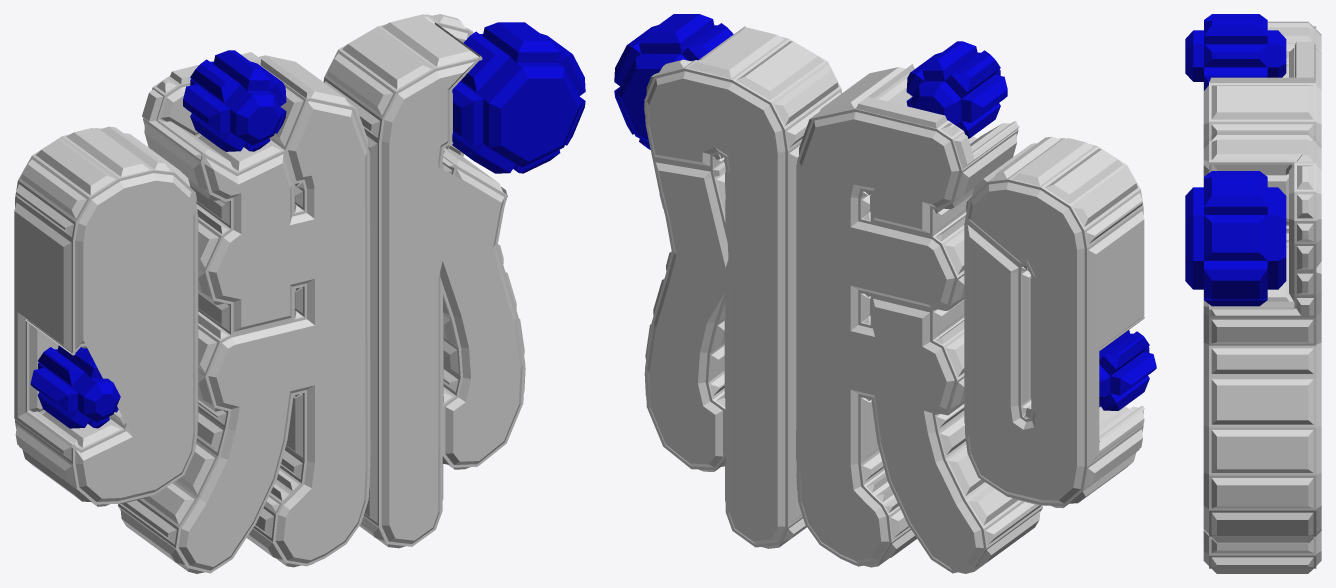
File: Ch_China_哪_01.fbx
3 renders of one model, left to right at view 1: azimuth 30°, elevation 25°; view 2: azimuth 150°, elevation 25°; view 3: azimuth 270°, elevation 25°, orthographic. The views are drawn at different scales.
Parts seen in each view (by area): view 1: sphere1; view 2: sphere1; view 3: sphere1.
Boxes of the visible parts, x1,y1,x2,y2 form: sphere1: (14,14,585,573); sphere1: (614,14,1156,573); sphere1: (1185,14,1321,573).
Size of the model in its own units: 1.05 by 0.9848 by 0.2541.
